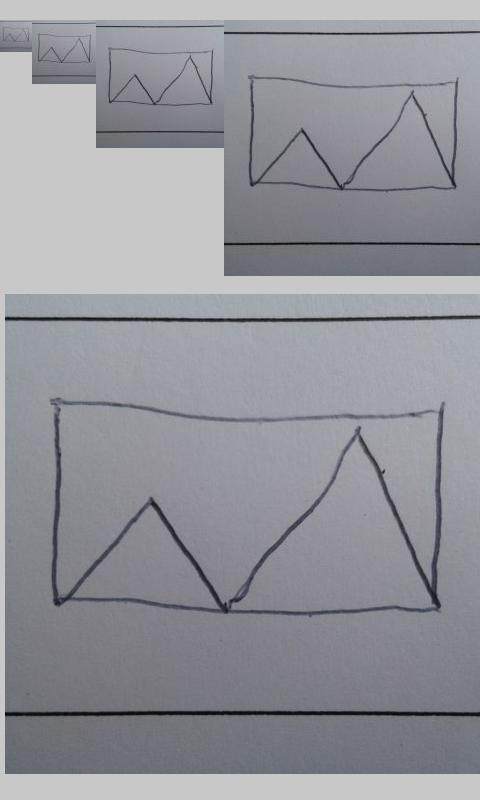image_view: (45, 395, 447, 616), (248, 73, 461, 192), (107, 47, 215, 106), (37, 33, 91, 64), (2, 26, 30, 43)
